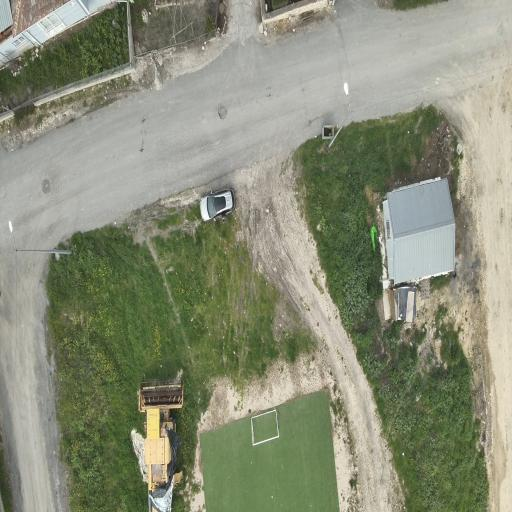car: (200, 189, 235, 220)
harvester: (139, 379, 183, 511)
